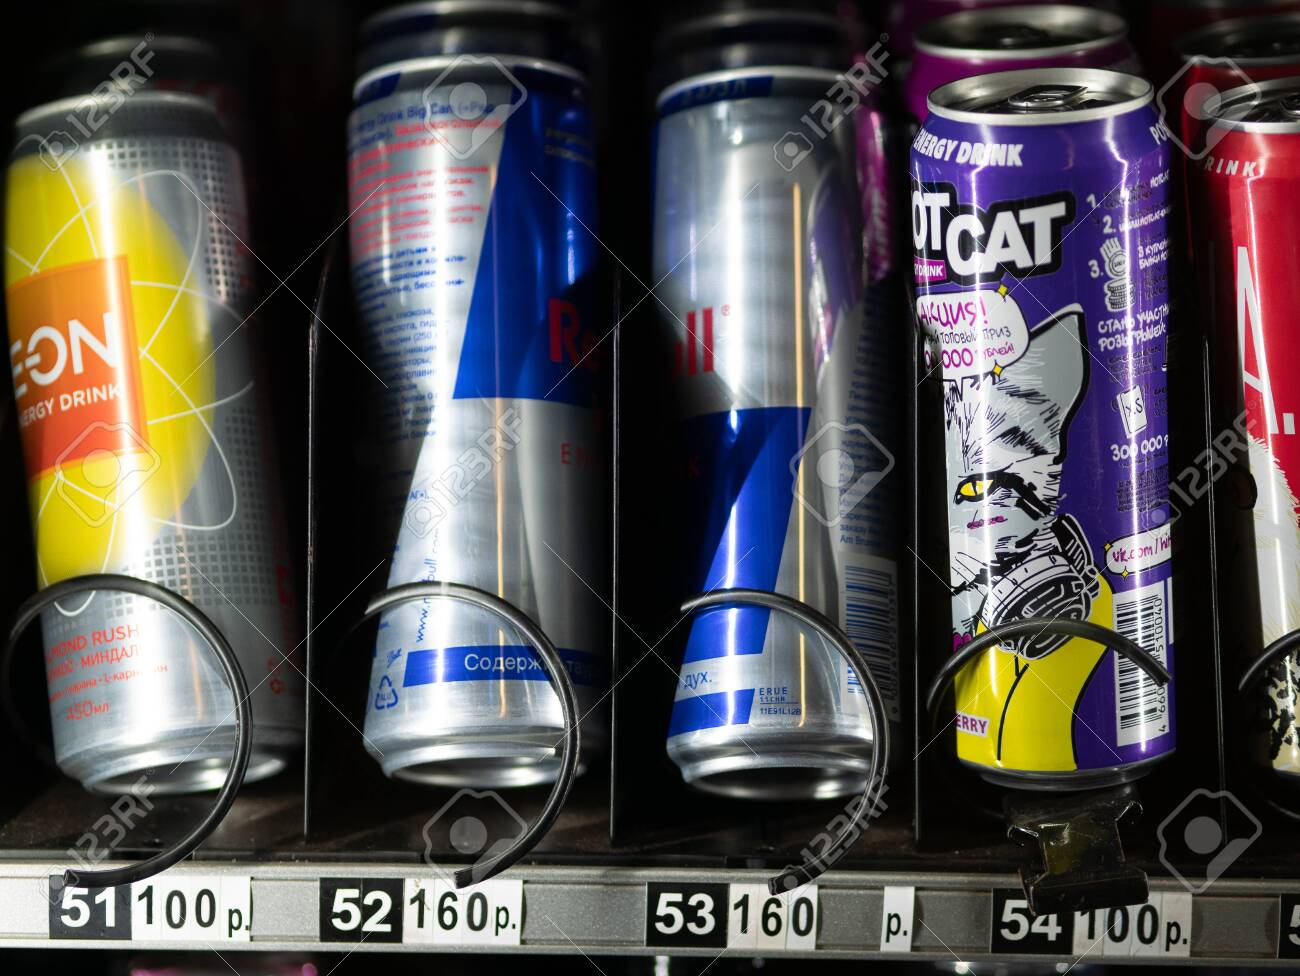redbull: (635, 56, 905, 831), (339, 41, 605, 792)
